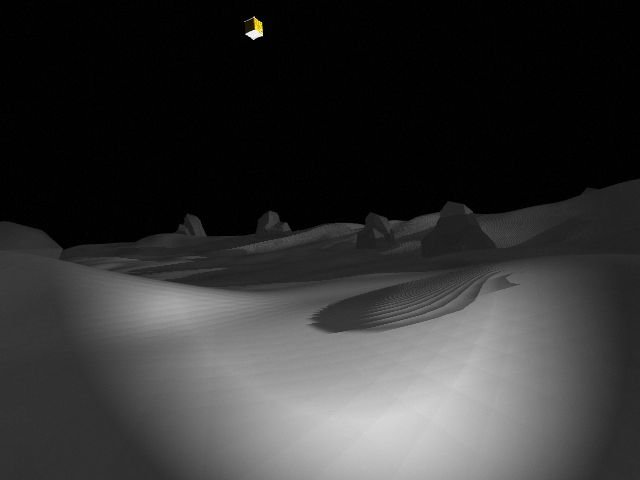cubesat: (236, 14, 270, 44)
